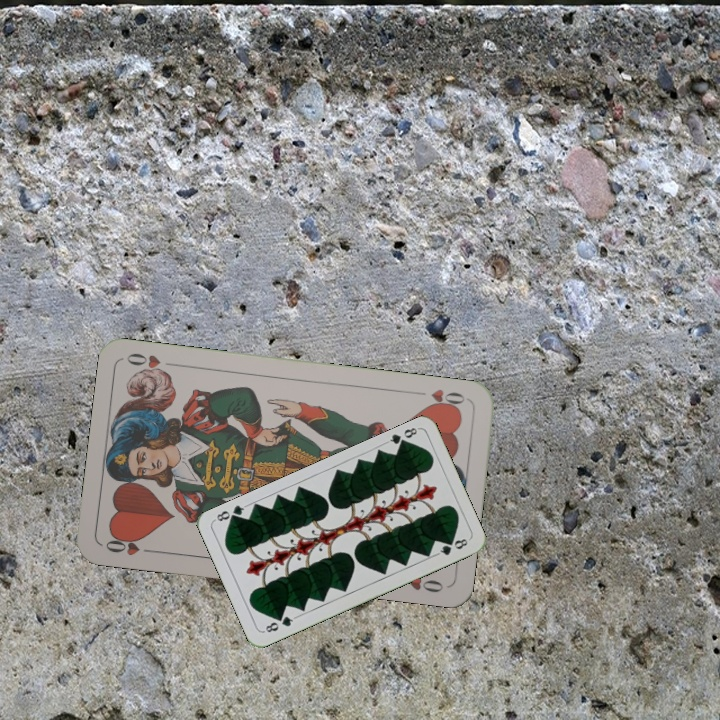G8: (382, 423, 421, 450), (260, 612, 298, 635)
HO: (101, 531, 159, 559), (421, 385, 468, 413)
